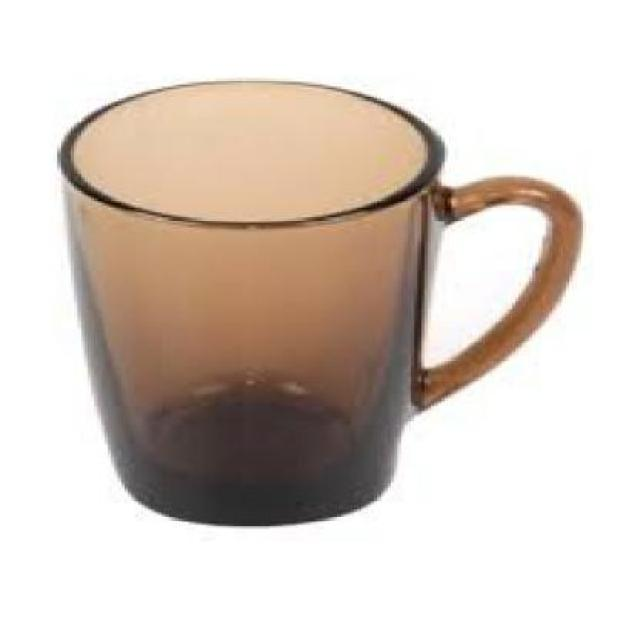kaca: (54, 77, 580, 525)
